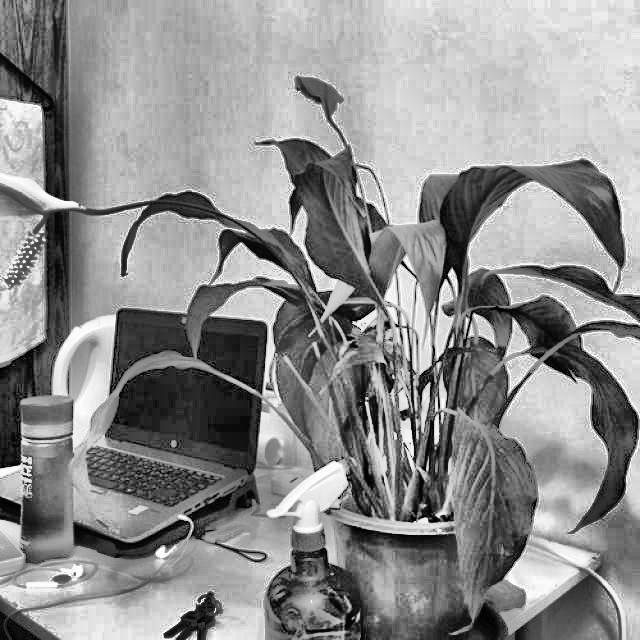plants: (254, 70, 638, 639), (424, 387, 540, 640)
